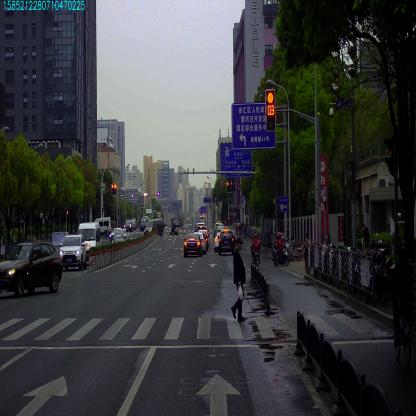traffic-light: (266, 91, 275, 131), (226, 181, 230, 192), (111, 184, 114, 195), (114, 183, 116, 195), (230, 180, 232, 192)
